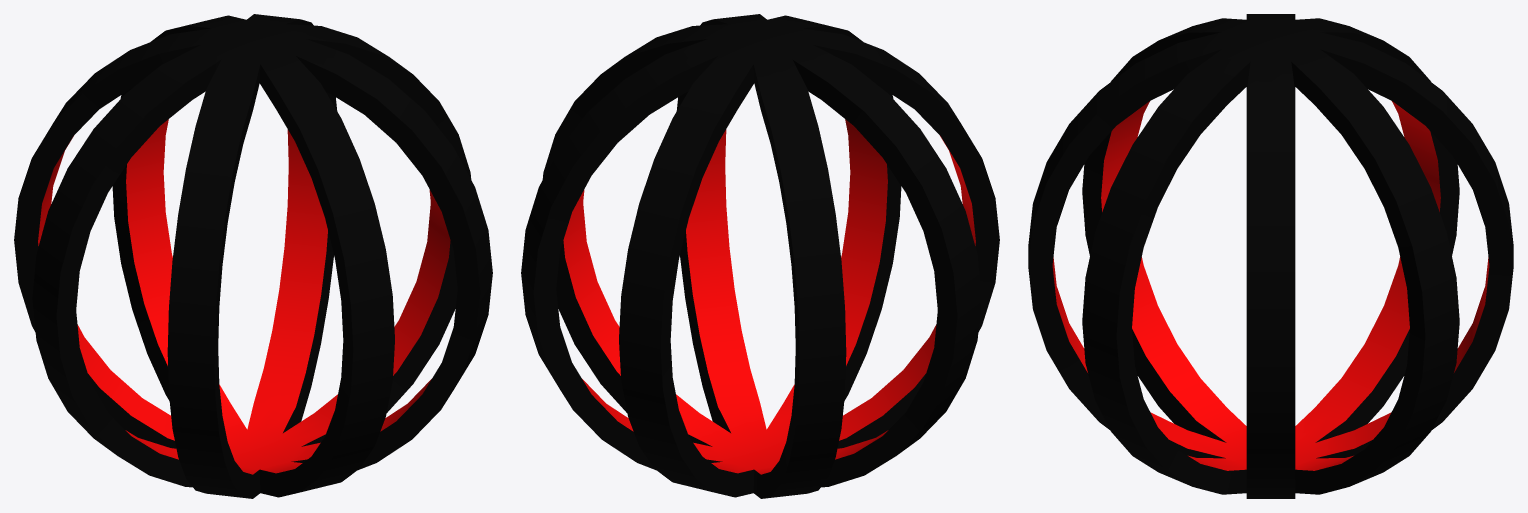
File: Dyson Sphere.fbx
The picture shows the model from 3 angles, left to right: view 1: azimuth 30°, elevation 25°; view 2: azimuth 150°, elevation 25°; view 3: azimuth 270°, elevation 25°; orthographic projection.
Visible parts, largest first — view 1: Ring; view 2: Ring; view 3: Ring.
Boxes of the visible parts, left/top/right/bottom form: Ring: left=14, top=14, right=492, bottom=498; Ring: left=521, top=14, right=999, bottom=498; Ring: left=1028, top=14, right=1513, bottom=498.
Size of the model in its own units: 200 by 196 by 200.
